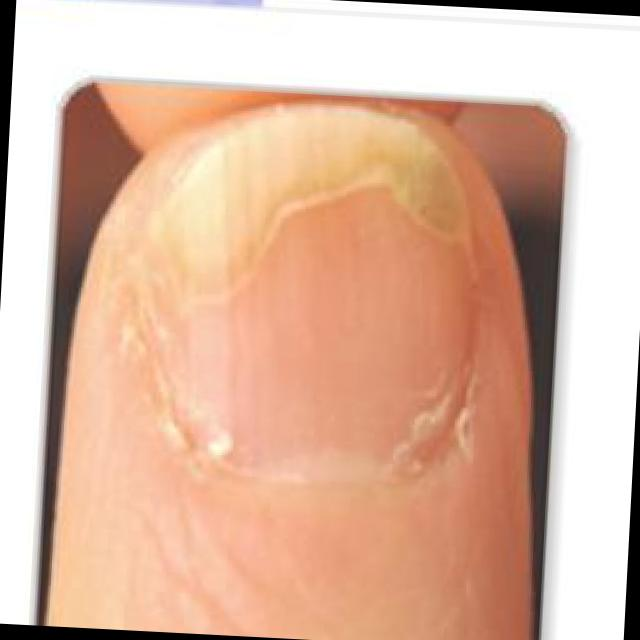Nail: (134, 107, 480, 479)
